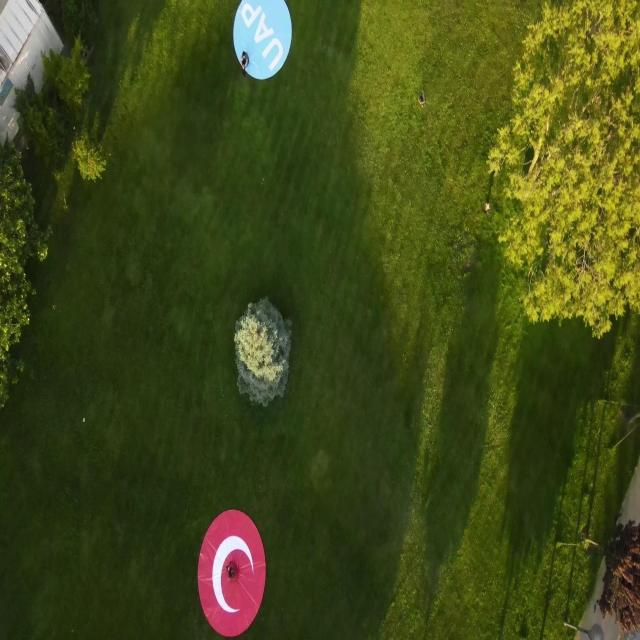p3rson: (240, 48, 249, 76), (226, 561, 238, 582), (417, 94, 426, 107)
